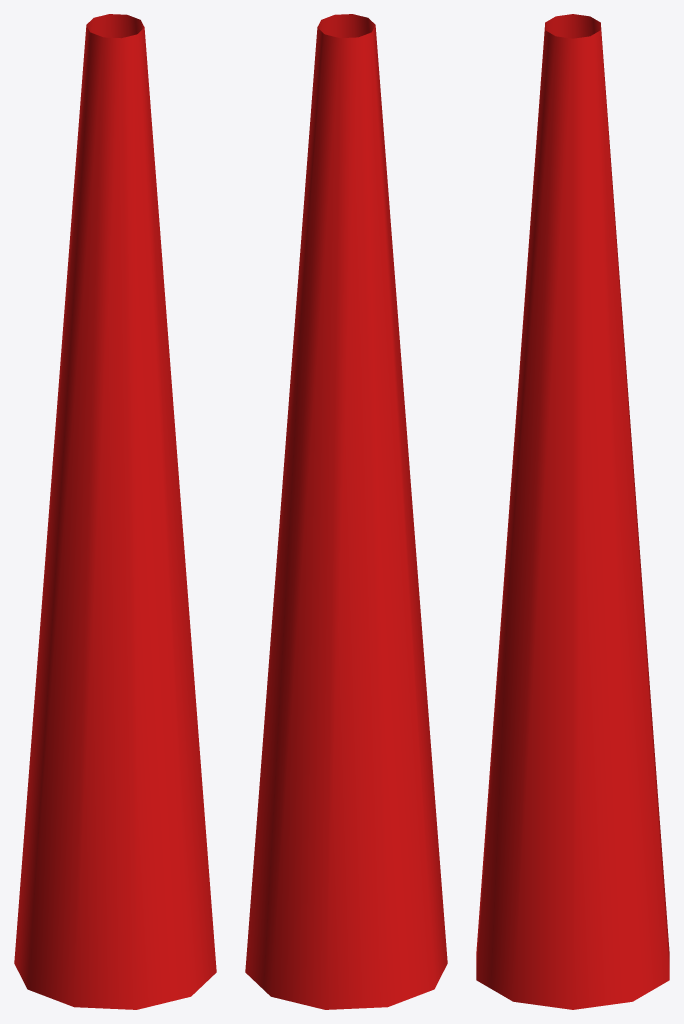
The model's file is light.fbx.
3 renders of one model, left to right at view 1: azimuth 30°, elevation 25°; view 2: azimuth 150°, elevation 25°; view 3: azimuth 270°, elevation 25°, orthographic.
Visible parts, largest first — view 1: pCylinder10; view 2: pCylinder10; view 3: pCylinder10.
Part boxes in pixels (bbox=[...]): pCylinder10: bbox=[14, 14, 216, 1009]; pCylinder10: bbox=[245, 14, 447, 1009]; pCylinder10: bbox=[476, 14, 669, 1009].
Size of the model in its own units: 13.91 by 71 by 13.23.
Materials: 1 (1 with a texture image).
